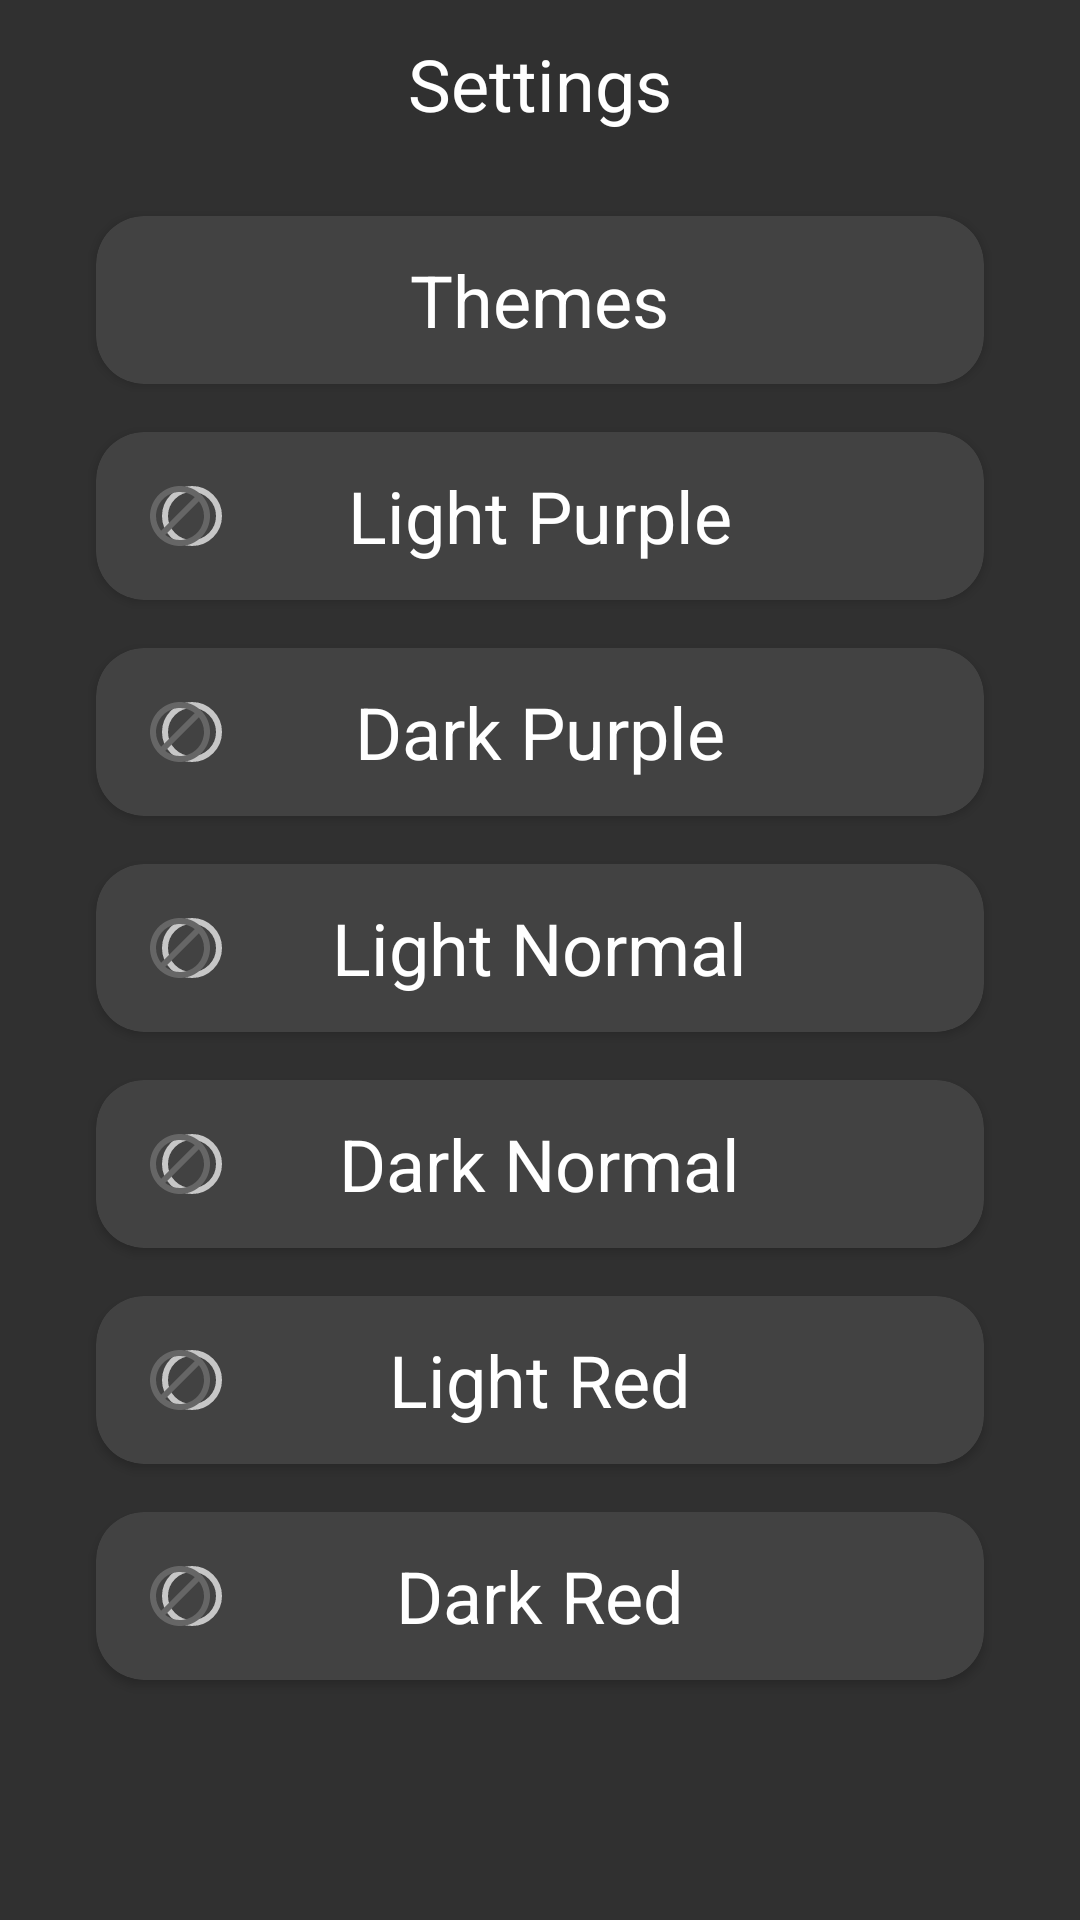

Where to tap for icons on this 1080*1920 app screen, as point (x, y):
block: point (183, 516), point (183, 732), point (183, 948), point (183, 1164), point (183, 1380), point (183, 1596)
